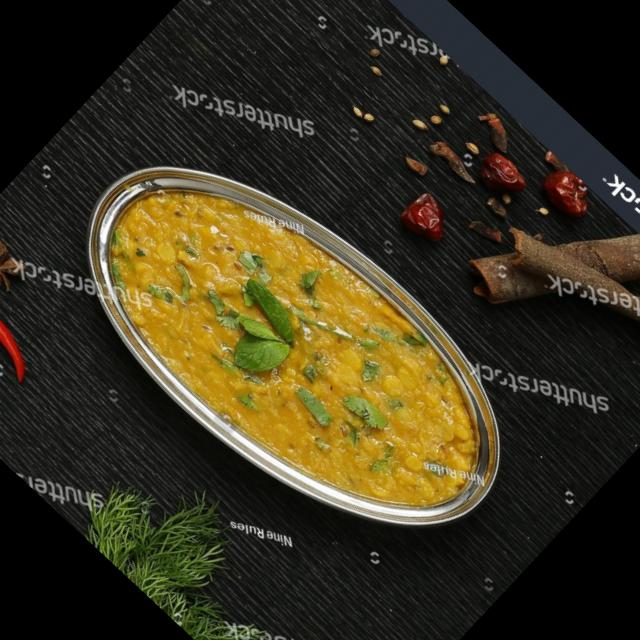dal: (44, 114, 543, 600)
